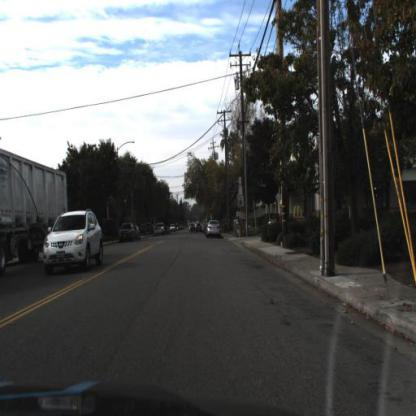car: (42, 210, 105, 280), (117, 222, 137, 245), (205, 217, 224, 239), (153, 226, 165, 240)
truck: (1, 147, 74, 268)
